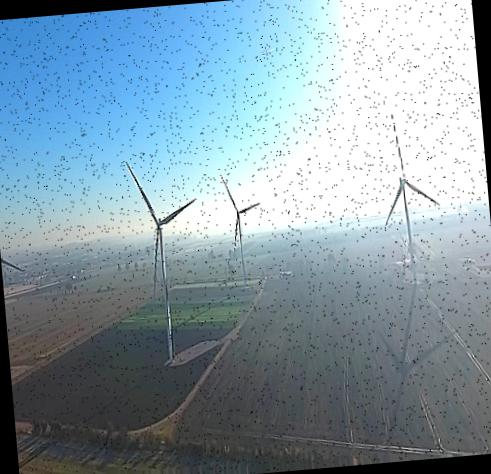wind turbine: (124, 161, 199, 363), (384, 115, 442, 285), (219, 171, 260, 285)
